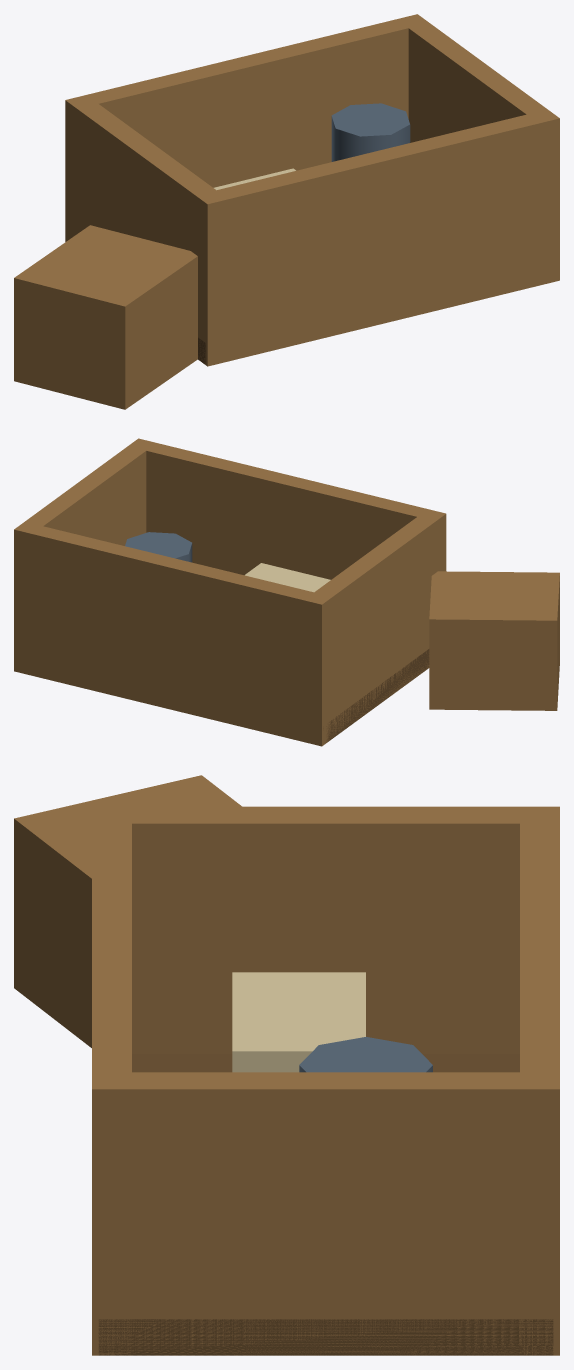
Rendered from boxes01.glb.
3 renders of one model, top to bottom at view 1: azimuth 30°, elevation 25°; view 2: azimuth 150°, elevation 25°; view 3: azimuth 270°, elevation 25°, orthographic. The views are drawn at different scales.
Visible parts, largest first — view 1: body; view 2: body; view 3: body.
Part boxes in pixels (box(x1,y1,x2,y2)): body: box(14, 14, 559, 409); body: box(14, 438, 559, 746); body: box(14, 775, 559, 1355).
Size of the model in its own units: 0.7273 by 0.22 by 0.4084.
